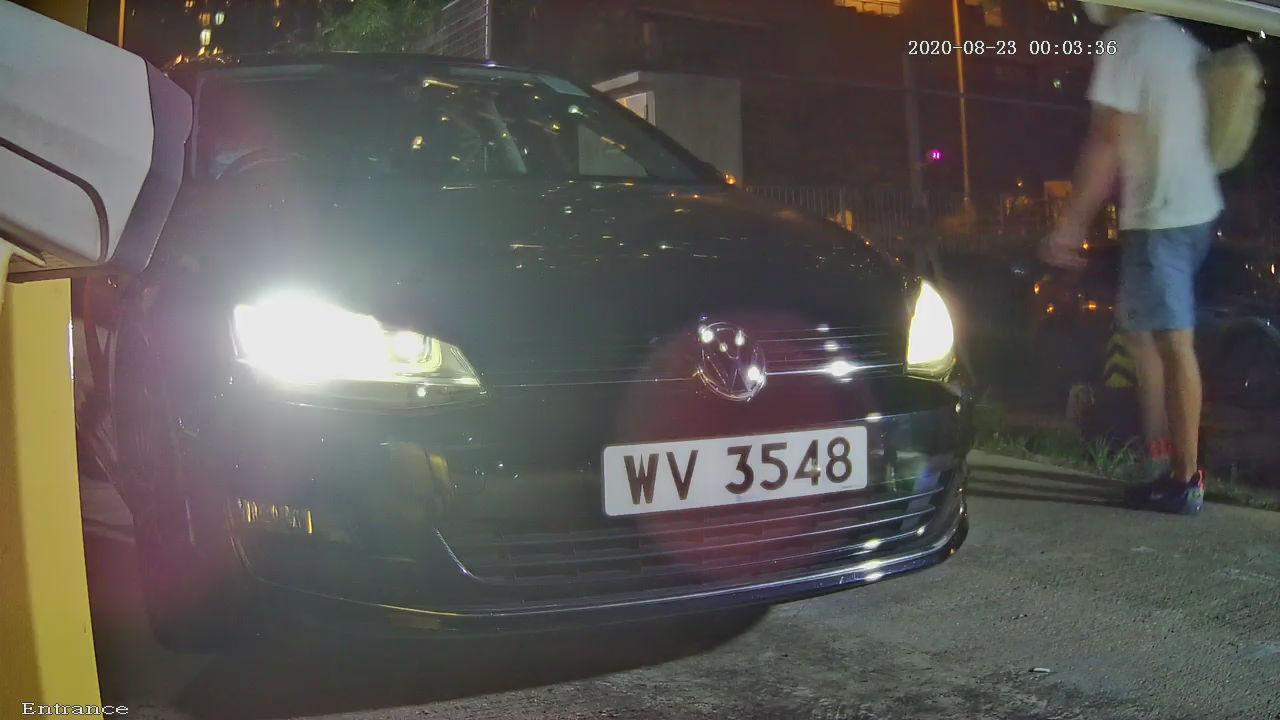Car: (1, 10, 1058, 692)
License Plate: (570, 394, 921, 555)
